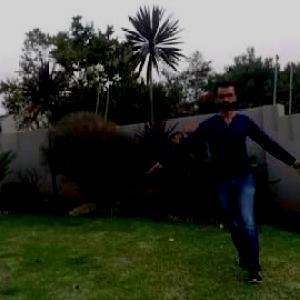land: (149, 84, 287, 254)
